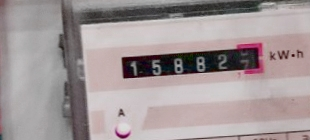1: (128, 58, 139, 77)
2: (216, 51, 228, 69)
5: (149, 57, 162, 75)
7: (238, 56, 250, 70)
8: (172, 55, 184, 73), (195, 54, 206, 71)
screen: (114, 39, 270, 83)
